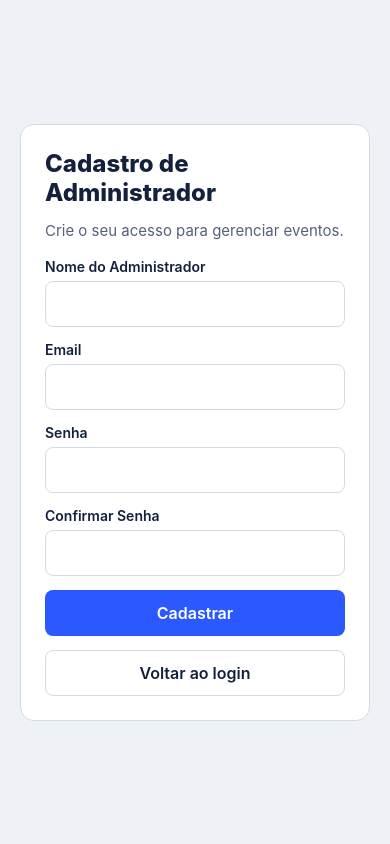
Test case: campos vazios são barrados antes da API
The width and height of the screenshot is (390, 844).
Click the button "Cadastrar" at (195, 612), box 45,590 -> 345,636
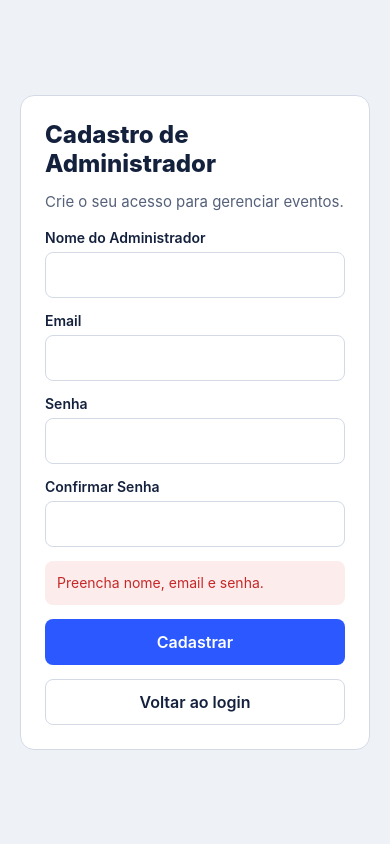
Expected: the text "Preencha nome, email e senha." is shown, 45,560 -> 345,604
